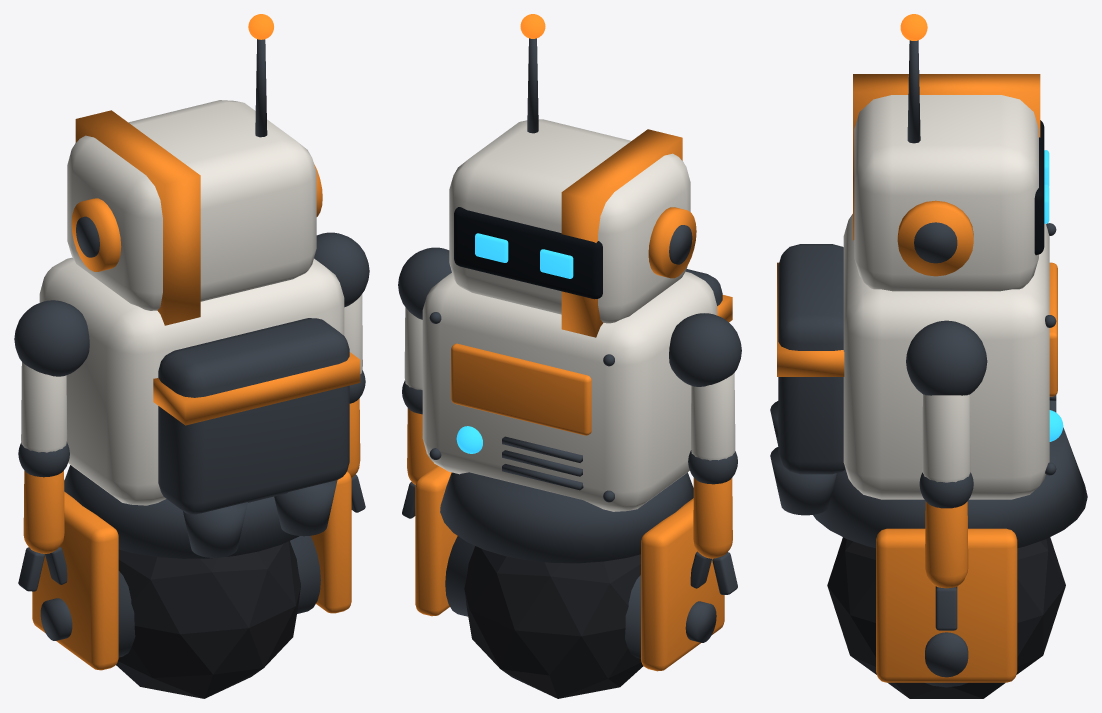
Rendered from spark-robot.glb.
3 renders of one model, left to right at view 1: azimuth 30°, elevation 25°; view 2: azimuth 150°, elevation 25°; view 3: azimuth 270°, elevation 25°, orthographic. The views are drawn at different scales.
Visible parts, largest first — view 1: HeadShell, Pack, TorsoShell, WheelTyre, HeadStripe, ForkPlate-1, Hip, PackStripe, ShoulderBallL, ForkPlate1, UpperArmL, LowerArmL (+13 smaller); view 2: TorsoShell, HeadShell, WheelTyre, Hip, ChestPlate, ForkPlate-1, VisorGlass, HeadStripe, ForkPlate1, ShoulderBallL, UpperArmL, LowerArmL (+17 smaller); view 3: TorsoShell, HeadShell, ForkPlate1, Pack, WheelTyre, Hip, ShoulderBallR, HeadStripe, UpperArmR, LowerArmR, Ear1, NozzleBellR (+9 smaller).
Boxes of the visible parts, x1,y1,x2,y2 form: HeadShell: [67, 100, 316, 310]; Pack: [158, 318, 349, 514]; TorsoShell: [39, 257, 344, 505]; WheelTyre: [116, 541, 300, 698]; HeadStripe: [75, 110, 200, 325]; ForkPlate-1: [32, 491, 118, 670]; Hip: [64, 465, 299, 558]; PackStripe: [153, 352, 360, 425]; ShoulderBallL: [14, 300, 89, 376]; ForkPlate1: [311, 471, 351, 613]; UpperArmL: [21, 362, 67, 452]; LowerArmL: [23, 470, 64, 553]; TorsoShell: [422, 271, 717, 511]; HeadShell: [449, 119, 690, 323]; WheelTyre: [464, 546, 643, 698]; Hip: [440, 472, 693, 563]; ChestPlate: [451, 343, 591, 435]; ForkPlate-1: [641, 498, 724, 671]; VisorGlass: [454, 207, 602, 299]; HeadStripe: [561, 129, 682, 337]; ForkPlate1: [415, 465, 457, 616]; ShoulderBallL: [669, 313, 741, 386]; UpperArmL: [690, 373, 735, 460]; LowerArmL: [693, 478, 732, 558]; TorsoShell: [843, 214, 1049, 499]; HeadShell: [854, 95, 1038, 291]; ForkPlate1: [876, 528, 1017, 682]; Pack: [778, 244, 845, 474]; WheelTyre: [827, 537, 1065, 698]; Hip: [813, 427, 1087, 547]; ShoulderBallR: [906, 320, 987, 395]; HeadStripe: [853, 74, 1040, 240]; UpperArmR: [922, 394, 970, 482]; LowerArmR: [925, 501, 968, 588]; Ear1: [897, 200, 973, 276]; NozzleBellR: [770, 447, 836, 515].
Bounding box in the file's own units: 0.77 × 1.43 × 0.585.
